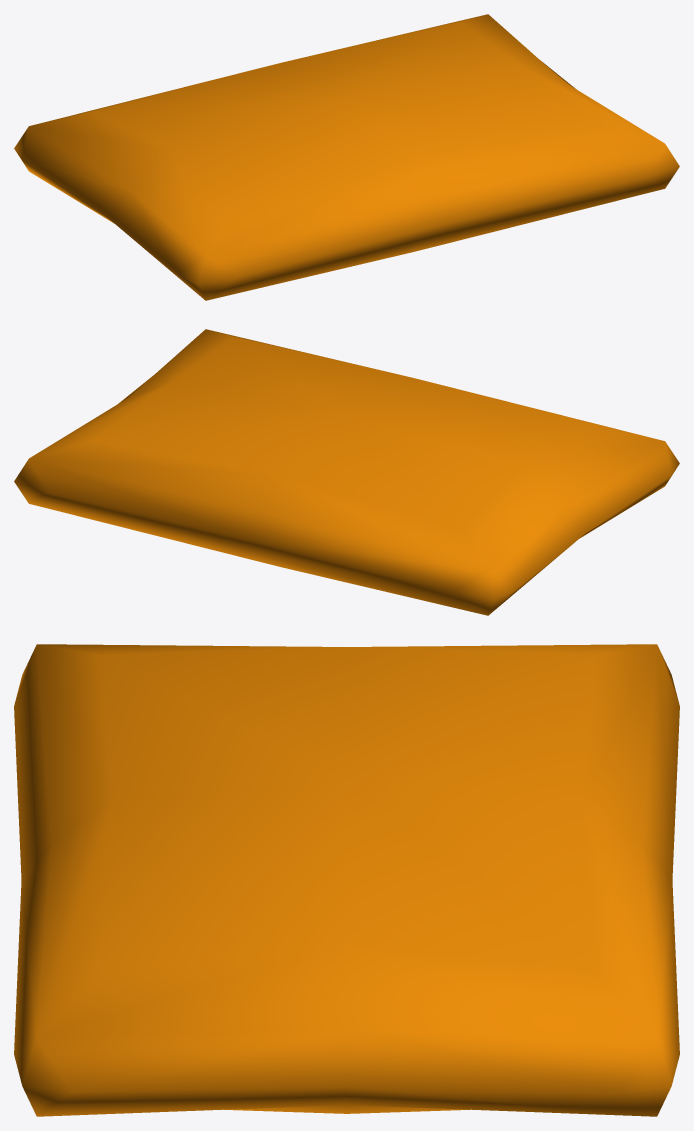
The model's file is Pillowlong.fbx.
3 views of the same model, one above another, from view 1: azimuth 30°, elevation 25°; view 2: azimuth 150°, elevation 25°; view 3: azimuth 270°, elevation 25° (orthographic). The views are drawn at different scales.
Visible parts, largest first — view 1: PillowLong; view 2: PillowLong; view 3: PillowLong.
Boxes of the visible parts, bbox=[...] form: PillowLong: bbox=[14, 14, 679, 300]; PillowLong: bbox=[14, 329, 679, 615]; PillowLong: bbox=[14, 644, 679, 1116].
Size of the model in its own units: 71.72 by 14.67 by 47.82.
